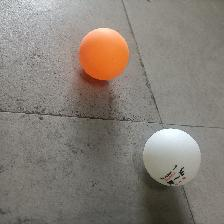WhiteBall: (141, 127, 202, 187)
YellowBall: (77, 26, 129, 79)
